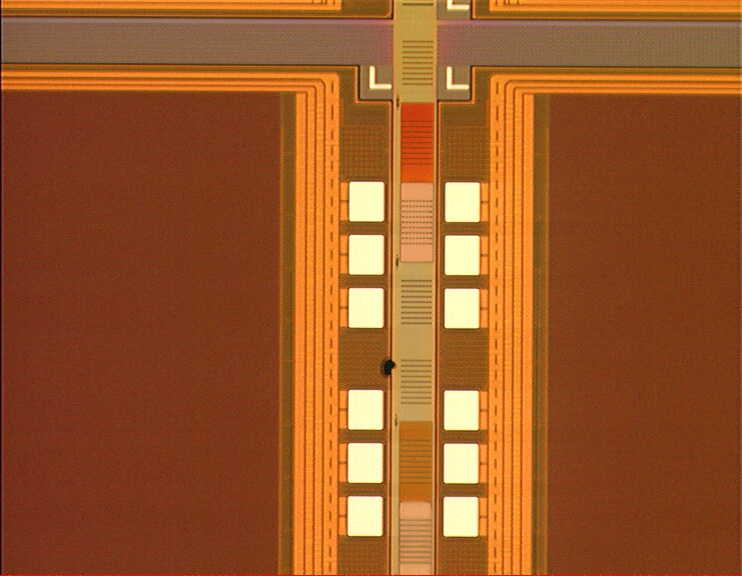PIQ PARTICLE: (374, 354, 406, 386)
